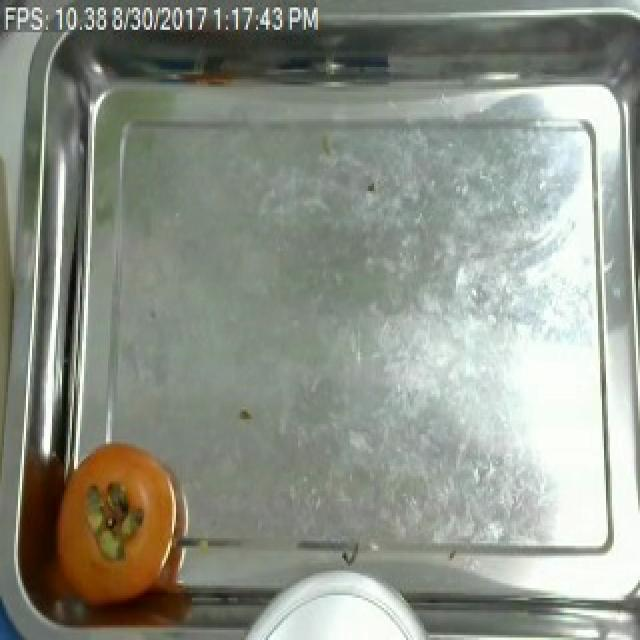Fruit: (24, 429, 186, 620)
